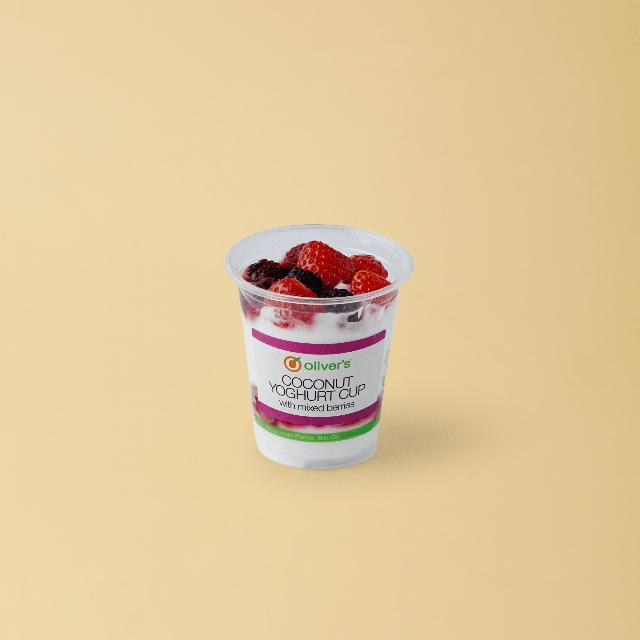yogurt: (224, 224, 413, 470)
